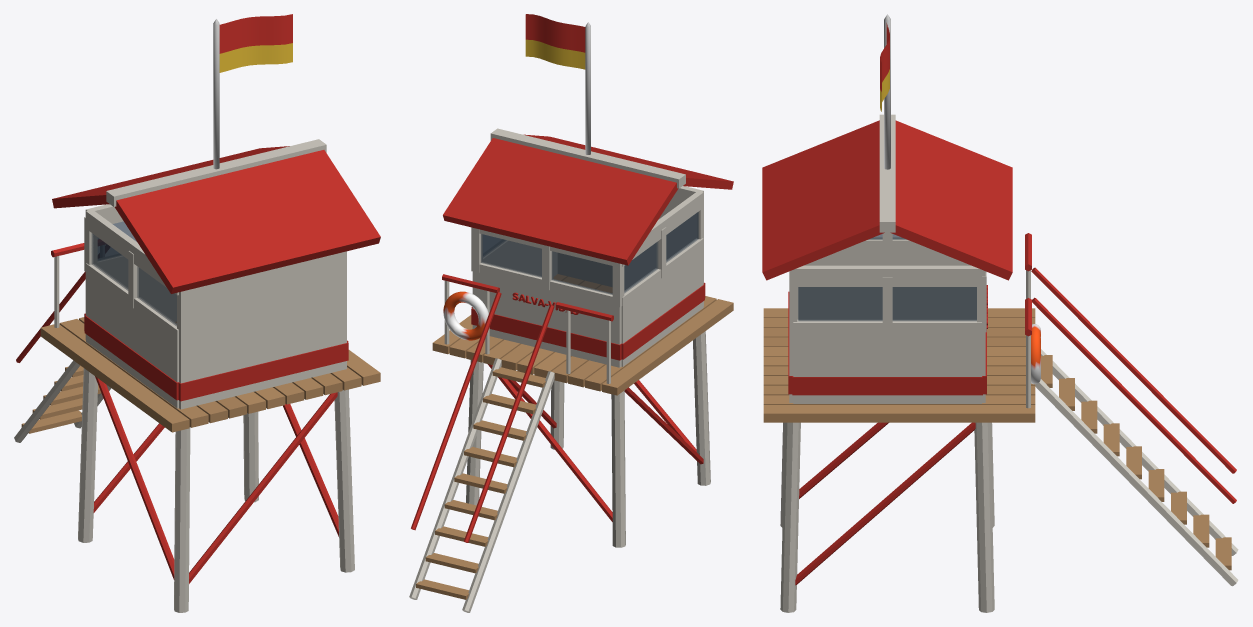
The model's file is lifeguard_tower.glb.
3 renders of one model, left to right at view 1: azimuth 30°, elevation 25°; view 2: azimuth 150°, elevation 25°; view 3: azimuth 270°, elevation 25°, orthographic. The views are drawn at different scales.
Parts seen in each view (by area): view 1: lifeguard_tower_mesh; view 2: lifeguard_tower_mesh; view 3: lifeguard_tower_mesh.
Part boxes in pixels (<box>): lifeguard_tower_mesh: <box>14,14,380,612</box>; lifeguard_tower_mesh: <box>409,14,733,612</box>; lifeguard_tower_mesh: <box>762,14,1238,612</box>.
Size of the model in its own units: 2.56 by 6.19 by 4.8.
